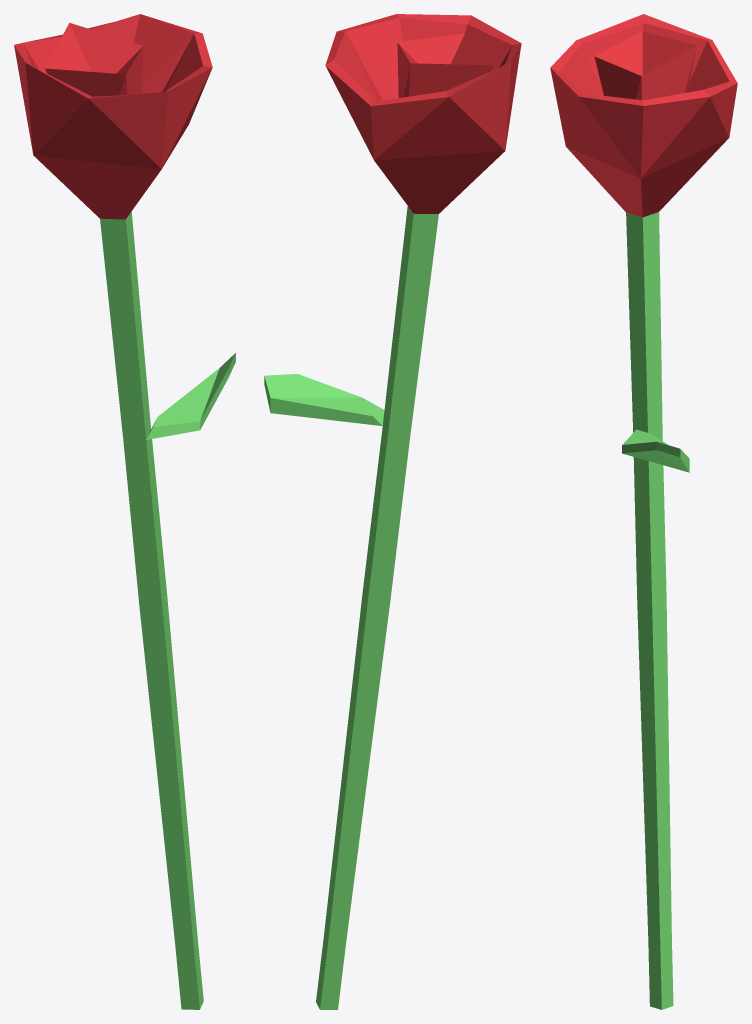
File: rose.fbx
3 renders of one model, left to right at view 1: azimuth 30°, elevation 25°; view 2: azimuth 150°, elevation 25°; view 3: azimuth 270°, elevation 25°, orthographic. The views are drawn at different scales.
Parts seen in each view (by area): view 1: rose; view 2: rose; view 3: rose.
Part boxes in pixels (<box>): rose: <box>14,14,235,1009</box>; rose: <box>264,14,521,1009</box>; rose: <box>550,14,737,1009</box>.
Size of the model in its own units: 10.74 by 44.34 by 8.24.
